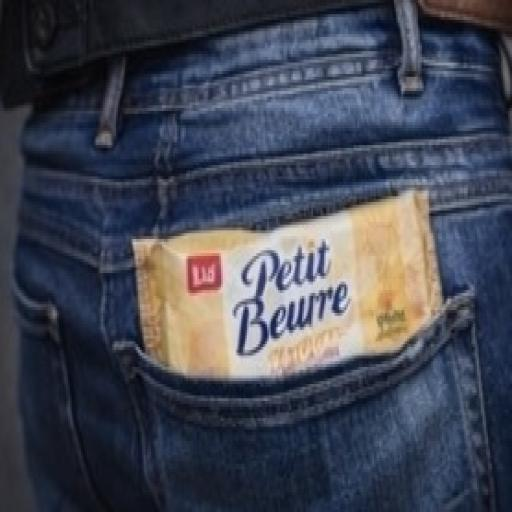petit-beurre: (103, 170, 468, 416)
